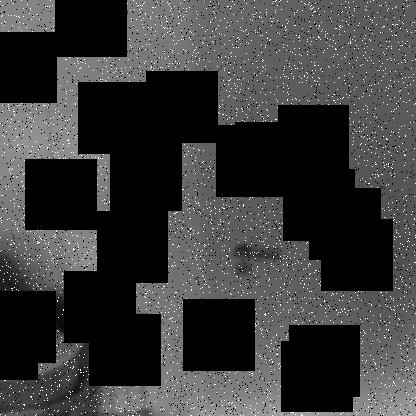Porte: (188, 0, 414, 415)
